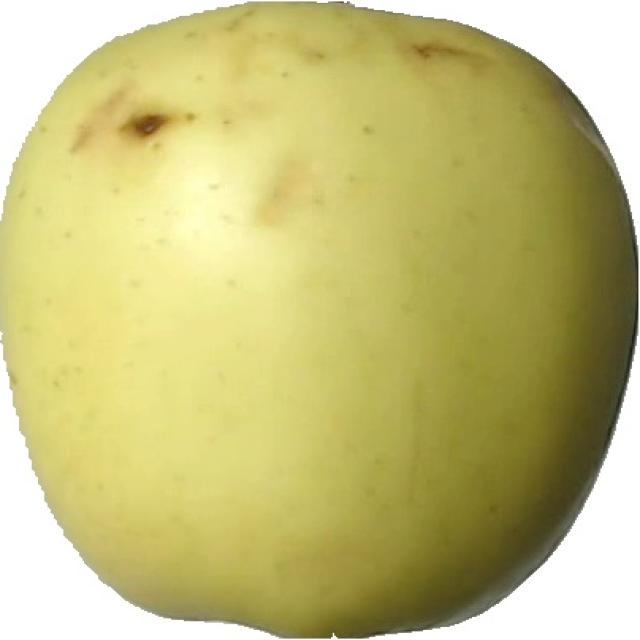Golden Elma: (13, 1, 627, 640)
